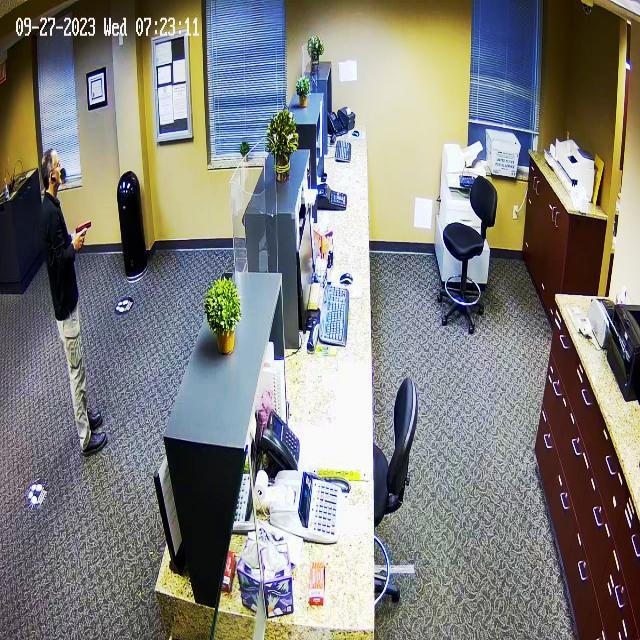Gun: (70, 213, 98, 247)
